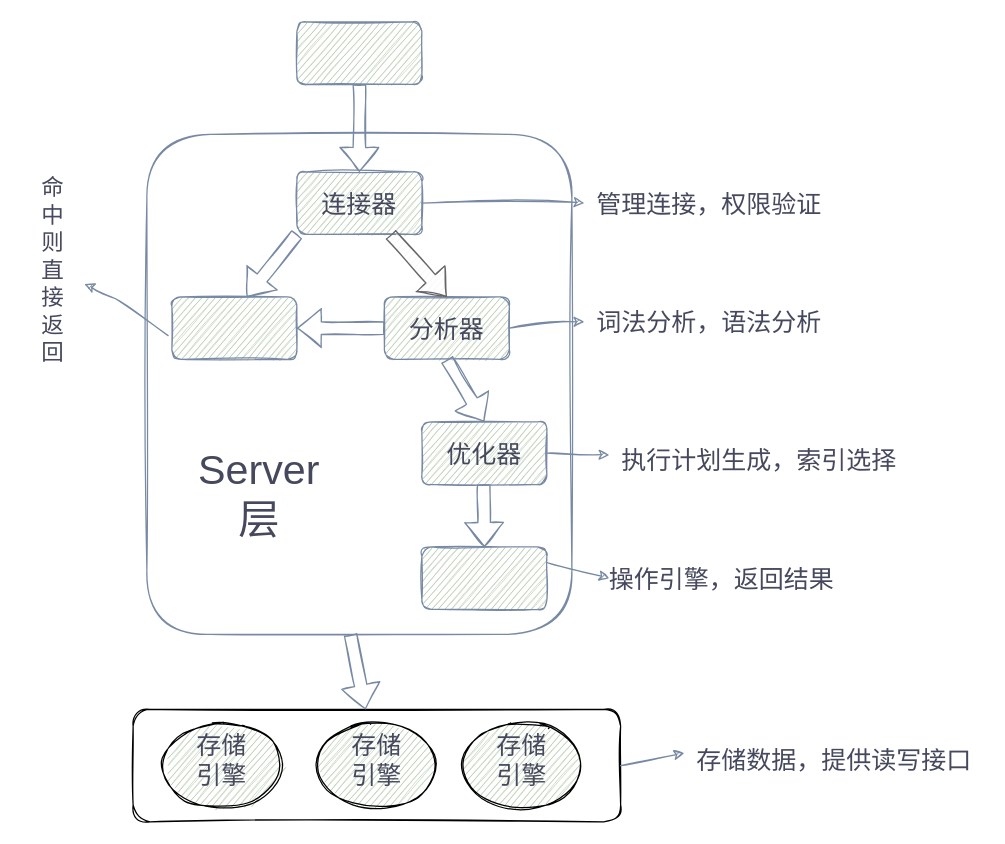
This 1005x844 diagram has some shape labels left out. Here are the shapes that lost their labels. From the top down, the box of each, then its label:
(296, 21, 422, 84): 客户端
(171, 296, 297, 359): 查询缓存
(421, 546, 547, 609): 执行器
